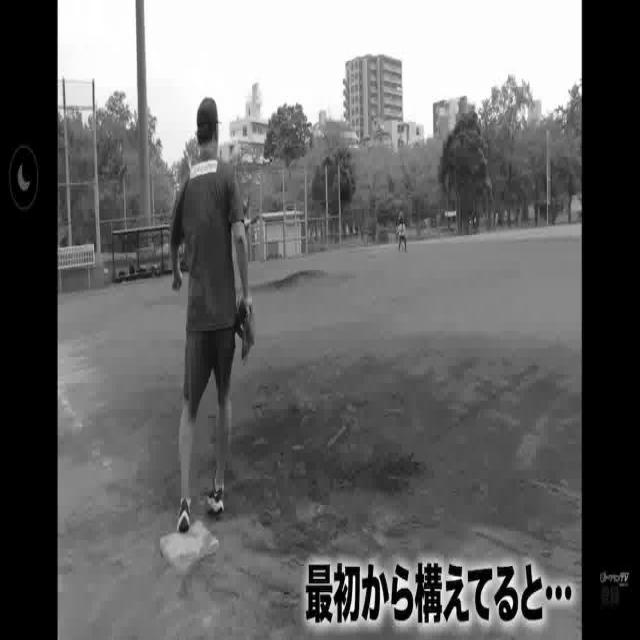base: (159, 524, 221, 561)
baseball_glove: (232, 292, 256, 367)
shoe: (176, 494, 189, 534), (210, 483, 223, 510)
